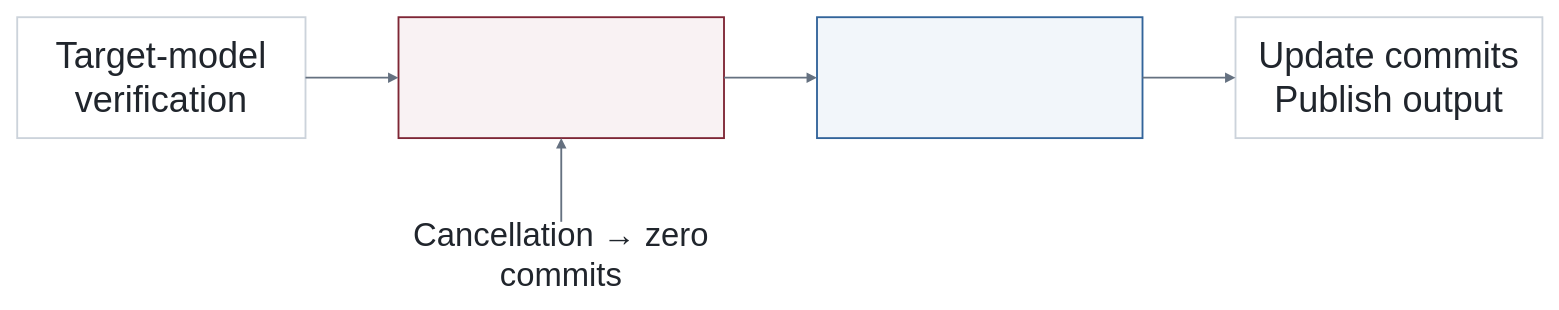
Some shapes in this 1559 by 310 pixel diagram are drawn without their labels. Each missing label, with the box of its shape:
Output policy EOS / stop / budget: (397, 16, 724, 139)
Resolve state Commit / roll back: (816, 16, 1143, 139)
